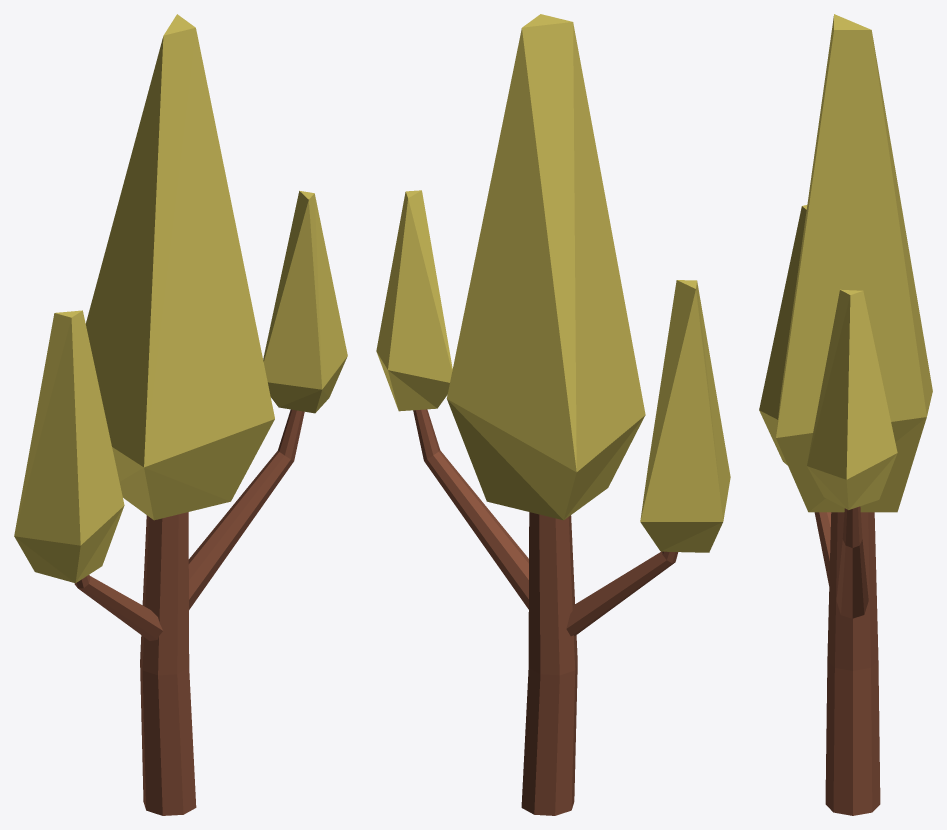
Rendered from Tree_50_autumn_mat.fbx.
3 views of the same model, side by side, from view 1: azimuth 30°, elevation 25°; view 2: azimuth 150°, elevation 25°; view 3: azimuth 270°, elevation 25° (orthographic).
Visible parts, largest first — view 1: Tree_50_autumn_mat; view 2: Tree_50_autumn_mat; view 3: Tree_50_autumn_mat.
Part boxes in pixels (x1,y1,x2,y2): Tree_50_autumn_mat: [14, 14, 347, 815]; Tree_50_autumn_mat: [376, 14, 730, 815]; Tree_50_autumn_mat: [759, 14, 932, 815].
Size of the model in its own units: 118 by 259 by 52.22.
